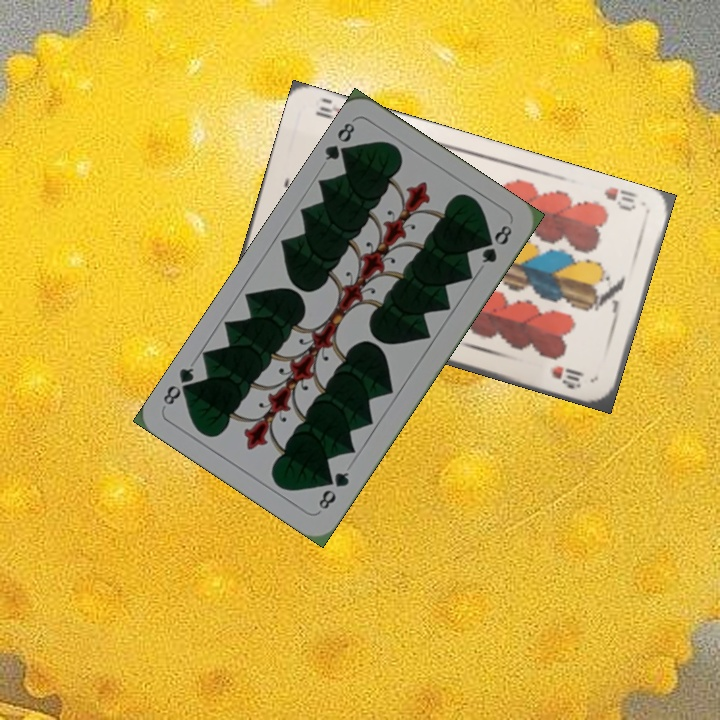G8: (320, 118, 358, 165), (314, 468, 352, 512)
H10: (600, 182, 639, 214)
